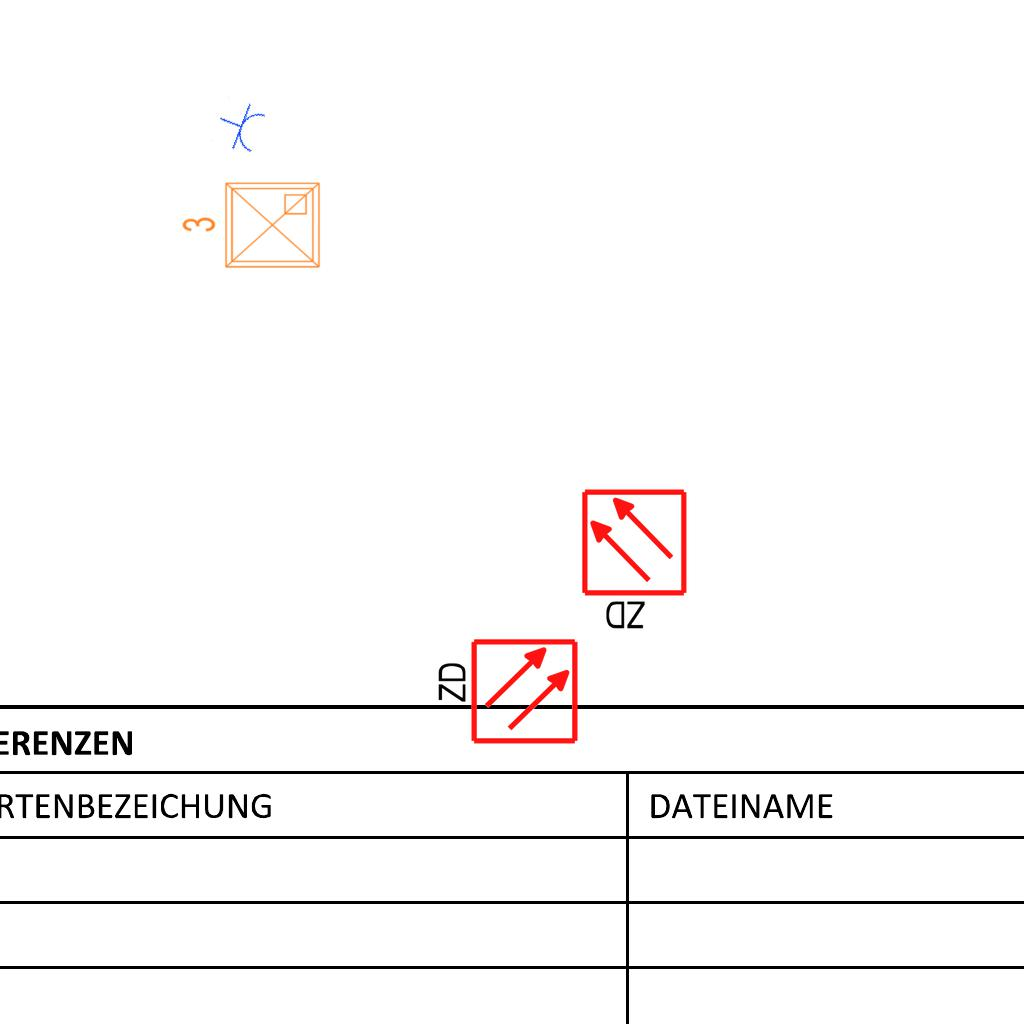Einbaudownlights_LED_Konferenzraeume: (177, 175, 327, 279)
Schukosteckdose_einfach: (210, 95, 270, 158)
ZD_Melder_in_Zwischendecke_mit_Revisionsoeffnung_mind_40_x_40_cm: (431, 636, 580, 750), (579, 487, 693, 636)
